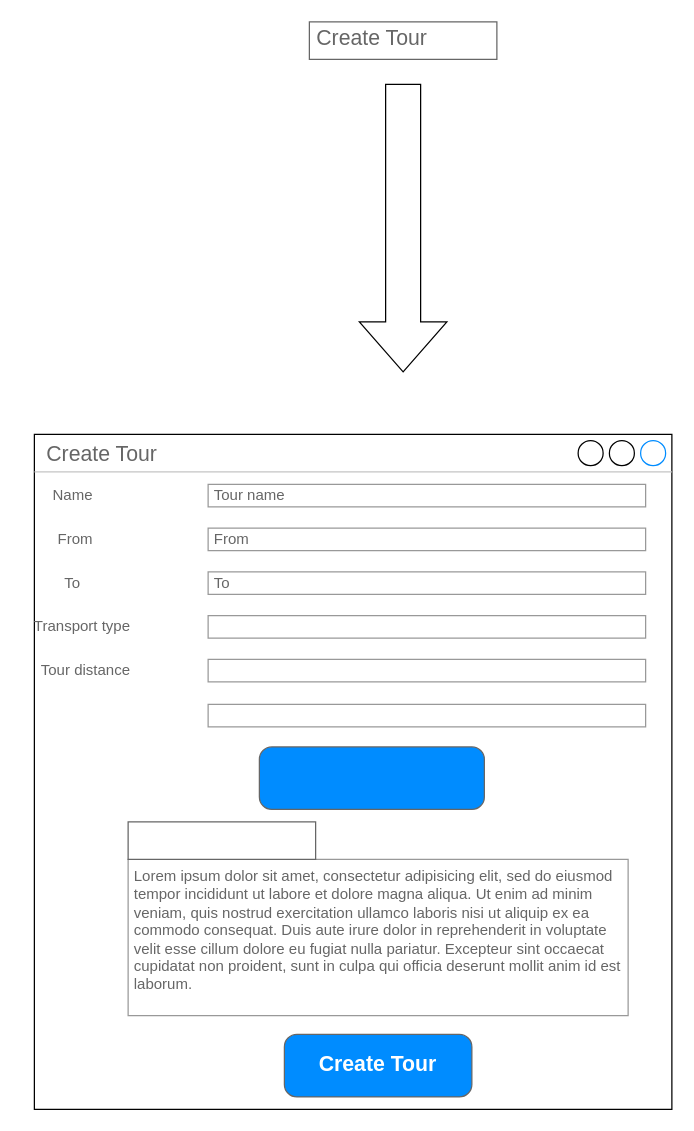
The diagram is 694 pixels wide and 1131 high, and some of its shapes have lost their labels. The centre of each missing label's shape, as x and y in pixels:
"Estimated Time" goes at (x=115, y=715).
"Tour Description" goes at (x=221, y=840).
"Upload Tour Image" goes at (x=371, y=777).
